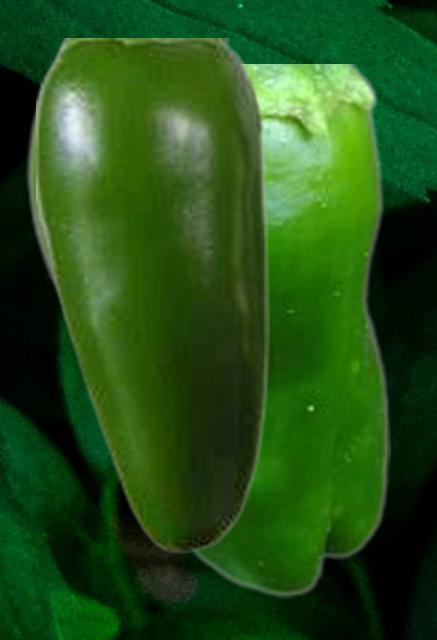green_chili: (24, 64, 389, 597), (36, 38, 268, 554)
